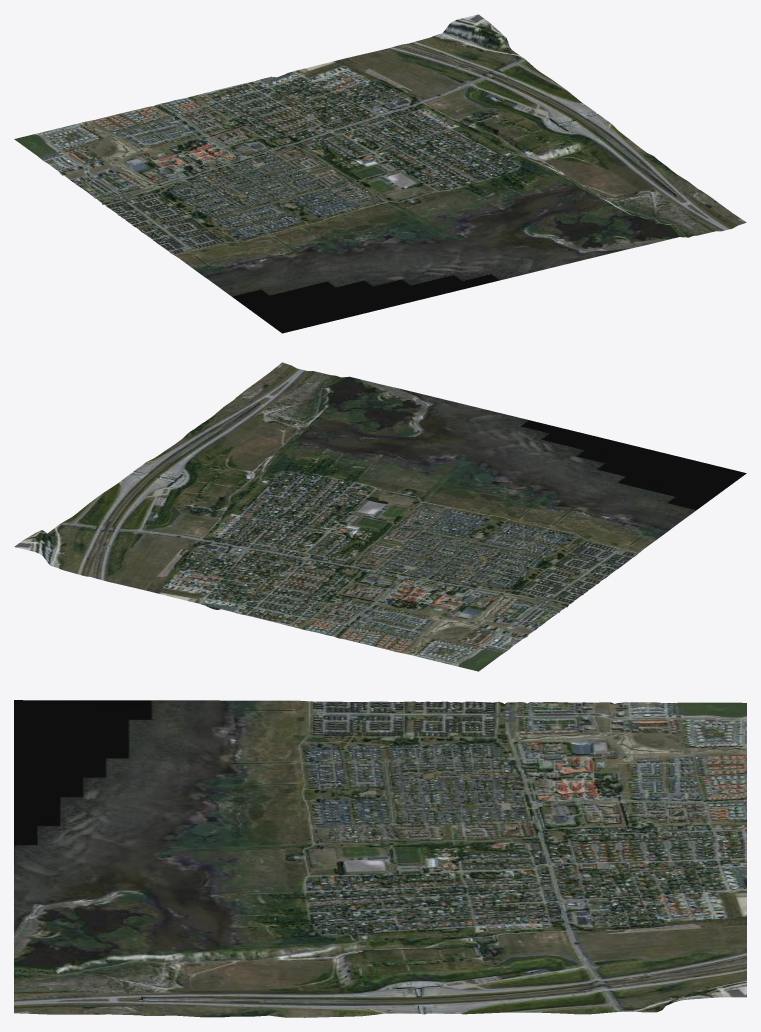
The model's file is map_10_248_422.dae.
3 views of the same model, one above another, from view 1: azimuth 30°, elevation 25°; view 2: azimuth 150°, elevation 25°; view 3: azimuth 270°, elevation 25° (orthographic). The views are drawn at different scales.
Parts seen in each view (by area): view 1: Ter0; view 2: Ter0; view 3: Ter0.
Part boxes in pixels (x1,y1,x2,y2): Ter0: (14,14,746,333); Ter0: (14,362,746,671); Ter0: (14,700,746,1017).
Size of the model in its own units: 2044 by 2044 by 72.25.
3 materials, 3 textured.
